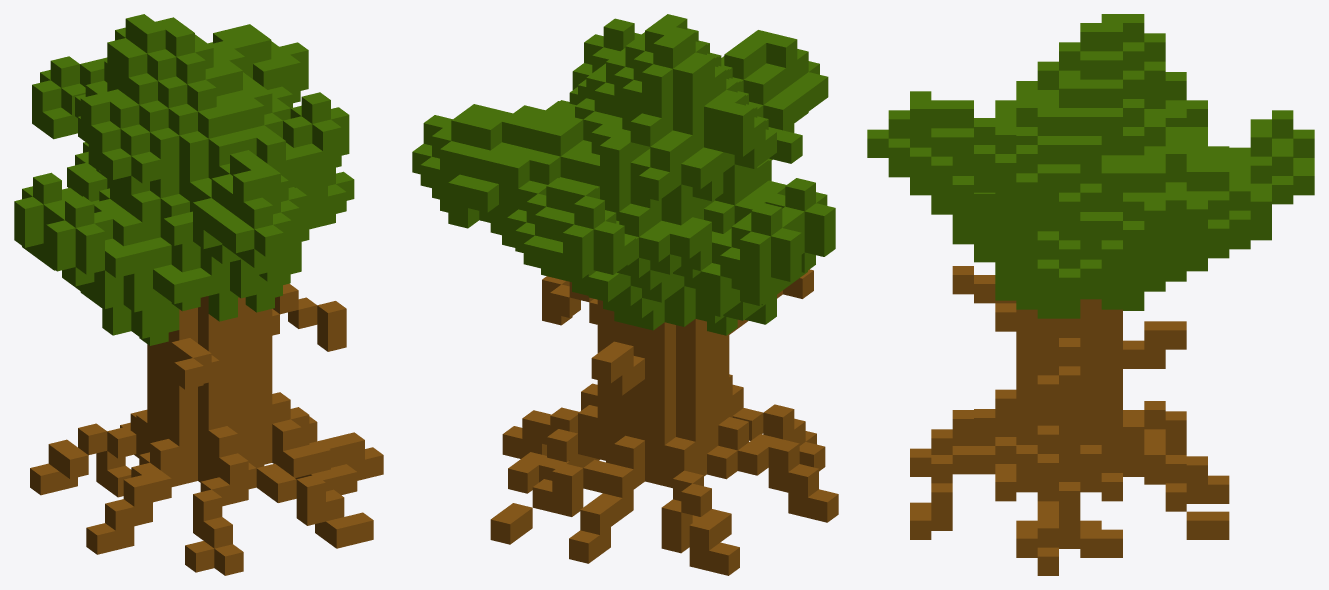
File: Tree_DenseLeaves.obj
The picture shows the model from 3 angles, left to right: view 1: azimuth 30°, elevation 25°; view 2: azimuth 150°, elevation 25°; view 3: azimuth 270°, elevation 25°; orthographic projection. The views are drawn at different scales.
Bounding box in the file's own units: 17 × 24 × 21.
1 material, 1 textured.
